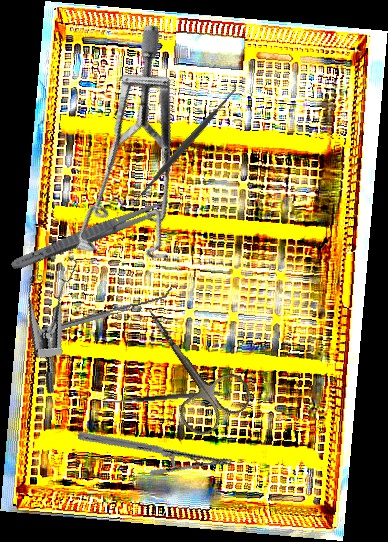Dressing Forceps: (8, 194, 173, 275)
Hook Surgical: (102, 389, 220, 412)
Iris Scissors: (119, 287, 258, 443)
Needle Holder: (76, 388, 234, 510)
Spatula Surgical: (127, 80, 245, 208), (30, 286, 175, 338)
Speculum: (3, 19, 278, 299), (4, 240, 113, 397)
